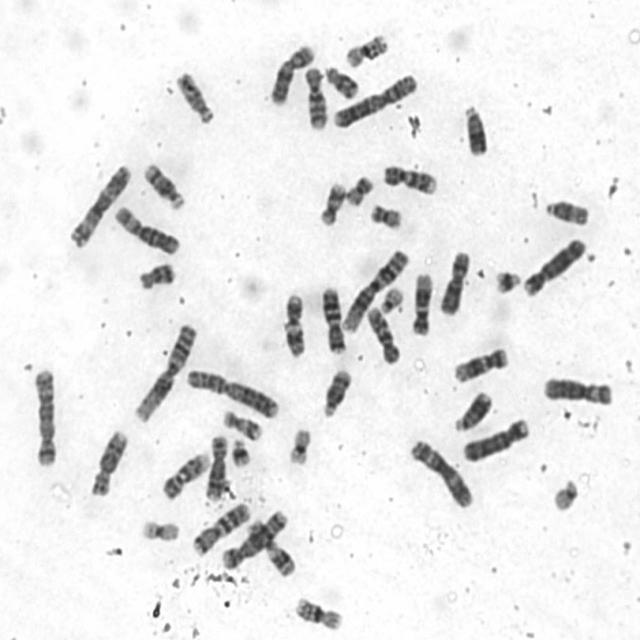A1: (130, 318, 200, 425), (340, 245, 411, 334)
A2: (329, 69, 421, 130), (182, 363, 282, 419)
A3: (65, 159, 134, 249), (406, 434, 476, 510)
B4: (518, 232, 588, 298), (459, 413, 532, 464)
B5: (218, 503, 290, 571), (29, 362, 59, 468)
C10: (363, 301, 403, 367), (300, 61, 331, 132)
C11: (243, 514, 298, 579), (279, 289, 308, 359)
C12: (450, 342, 511, 386), (408, 268, 435, 337)
C6: (110, 200, 183, 257), (540, 371, 616, 407)
C7: (189, 496, 253, 558), (318, 280, 350, 356)
C8: (86, 424, 130, 498), (202, 429, 230, 502)
C9: (158, 446, 212, 501), (378, 159, 439, 197)
D13: (450, 386, 494, 434), (459, 100, 490, 158)
D14: (140, 157, 188, 211), (319, 365, 353, 419)
D15: (172, 65, 216, 125), (541, 194, 591, 227)
E16: (291, 591, 346, 633), (341, 28, 391, 68)
E17: (219, 405, 265, 441), (316, 177, 347, 229)
E18: (321, 60, 361, 100), (135, 258, 178, 292)
F19: (284, 423, 314, 468), (136, 514, 182, 543)
F20: (342, 170, 376, 207), (366, 200, 405, 232)
G21: (490, 264, 523, 296), (227, 432, 253, 468)
G22: (548, 474, 580, 513), (376, 282, 406, 314)
X: (266, 38, 318, 106), (436, 245, 474, 317)
